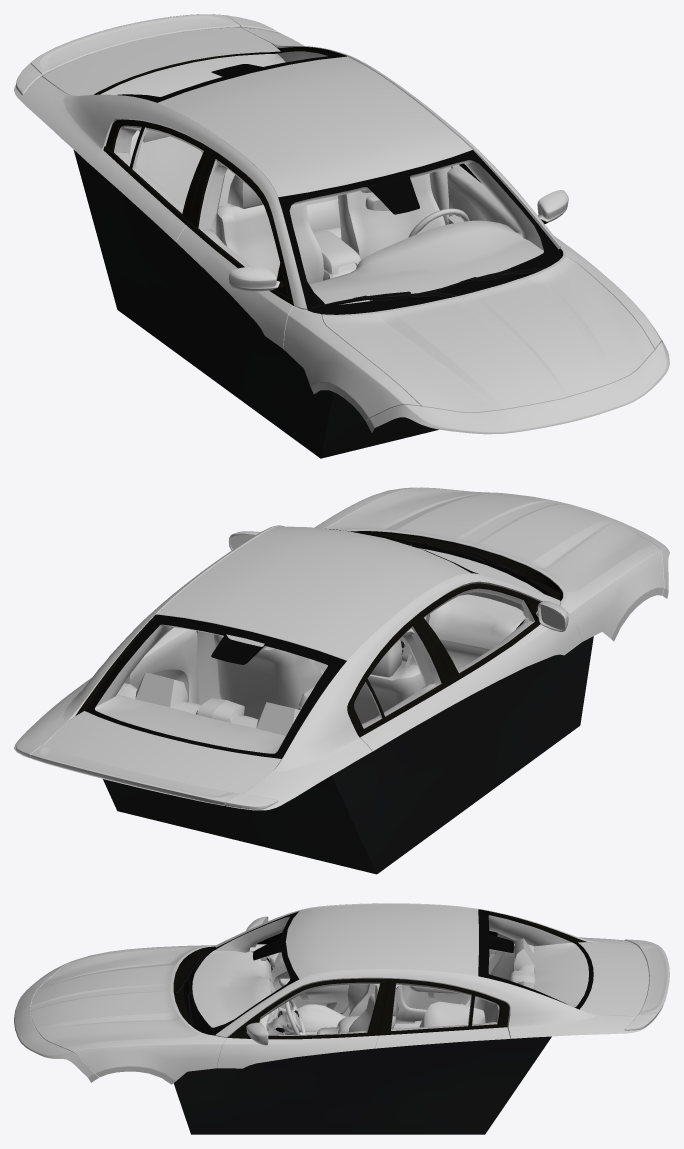
File: RMCarDemoInterior.FBX
3 renders of one model, top to bottom at view 1: azimuth 30°, elevation 25°; view 2: azimuth 150°, elevation 25°; view 3: azimuth 270°, elevation 25°, orthographic. The views are drawn at different scales.
Visible parts, largest first — view 1: RMCarDemo_Paint_LOD0, RMCarDemo_Body_LOD0, RMCarDemo_Interior1P_LOD0; view 2: RMCarDemo_Paint_LOD0, RMCarDemo_Body_LOD0, RMCarDemo_Interior1P_LOD0, RMCarDemo_Windows_LOD0; view 3: RMCarDemo_Paint_LOD0, RMCarDemo_Body_LOD0, RMCarDemo_Interior1P_LOD0, RMCarDemo_SteeringWheel_LOD0, RMCarDemo_Windows_LOD0.
Boxes of the visible parts, x1=… form: RMCarDemo_Paint_LOD0: x1=14, y1=14, x2=669, y2=434; RMCarDemo_Body_LOD0: x1=73, y1=47, x2=562, y2=458; RMCarDemo_Interior1P_LOD0: x1=100, y1=51, x2=543, y2=304; RMCarDemo_Paint_LOD0: x1=14, y1=487, x2=669, y2=810; RMCarDemo_Body_LOD0: x1=75, y1=531, x2=593, y2=874; RMCarDemo_Interior1P_LOD0: x1=95, y1=545, x2=543, y2=753; RMCarDemo_Windows_LOD0: x1=101, y1=528, x2=490, y2=686; RMCarDemo_Paint_LOD0: x1=14, y1=903, x2=669, y2=1084; RMCarDemo_Body_LOD0: x1=173, y1=909, x2=593, y2=1134; RMCarDemo_Interior1P_LOD0: x1=192, y1=915, x2=588, y2=1035; RMCarDemo_SteeringWheel_LOD0: x1=279, y1=999, x2=306, y2=1035; RMCarDemo_Windows_LOD0: x1=215, y1=910, x2=579, y2=948.
Size of the model in its own units: 2121 by 4946 by 1310.
